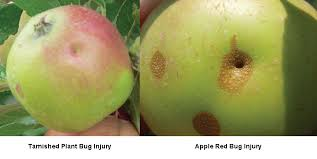damaged_apple: (145, 10, 287, 138), (12, 12, 133, 129)
